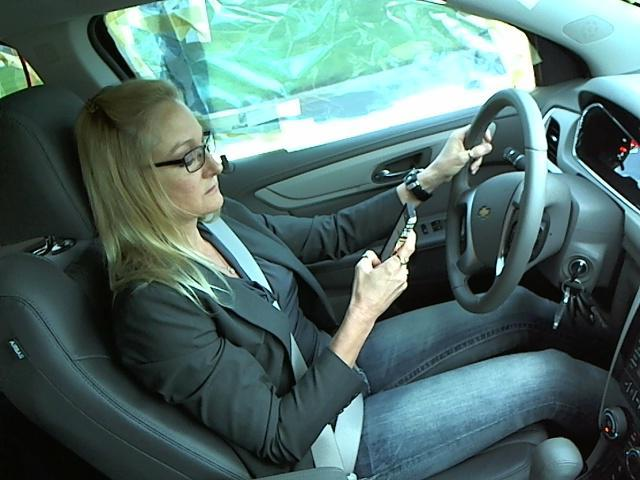PhoneUse: (372, 191, 423, 273)
